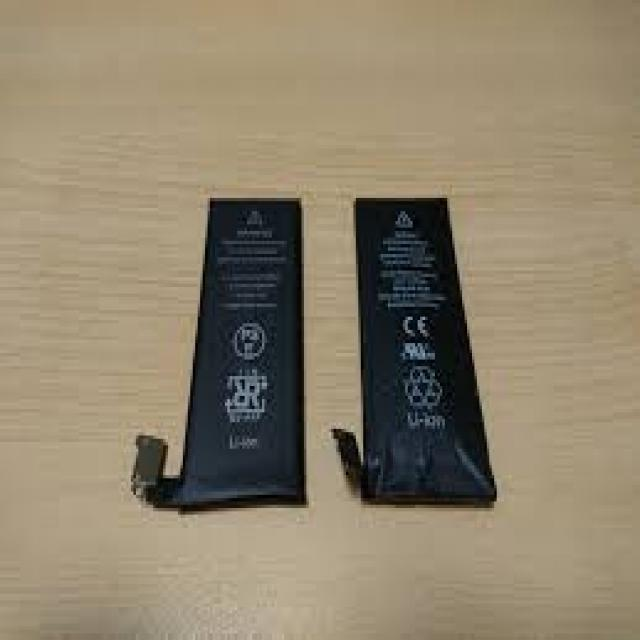battery: (126, 185, 307, 510), (330, 181, 500, 507)
